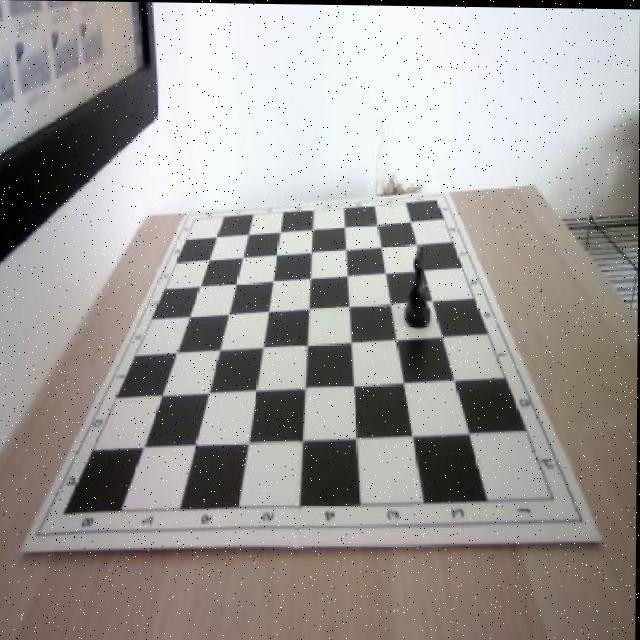black-king: (401, 243, 434, 328)
